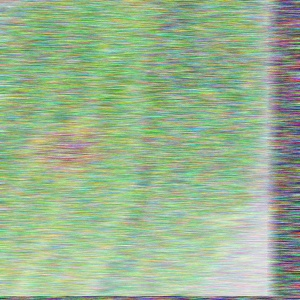Bacterial_Leaf_Blight: (32, 122, 111, 179)
